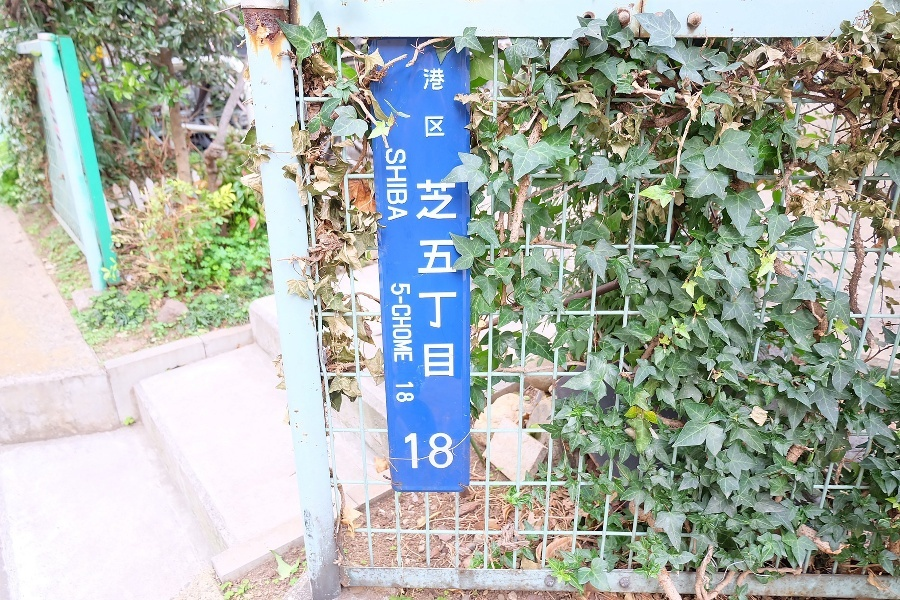text: (417, 179, 432, 379), (433, 179, 448, 379), (49, 59, 64, 183), (449, 179, 457, 379), (386, 148, 400, 222), (401, 284, 413, 363), (391, 284, 400, 363), (417, 434, 432, 469), (433, 434, 448, 469), (401, 148, 408, 222), (404, 434, 416, 469), (414, 179, 416, 379), (45, 59, 48, 183), (65, 59, 68, 183), (401, 382, 415, 403), (433, 69, 445, 92), (433, 117, 446, 138), (449, 434, 455, 469), (424, 69, 432, 92), (425, 117, 432, 138), (395, 382, 400, 403)
